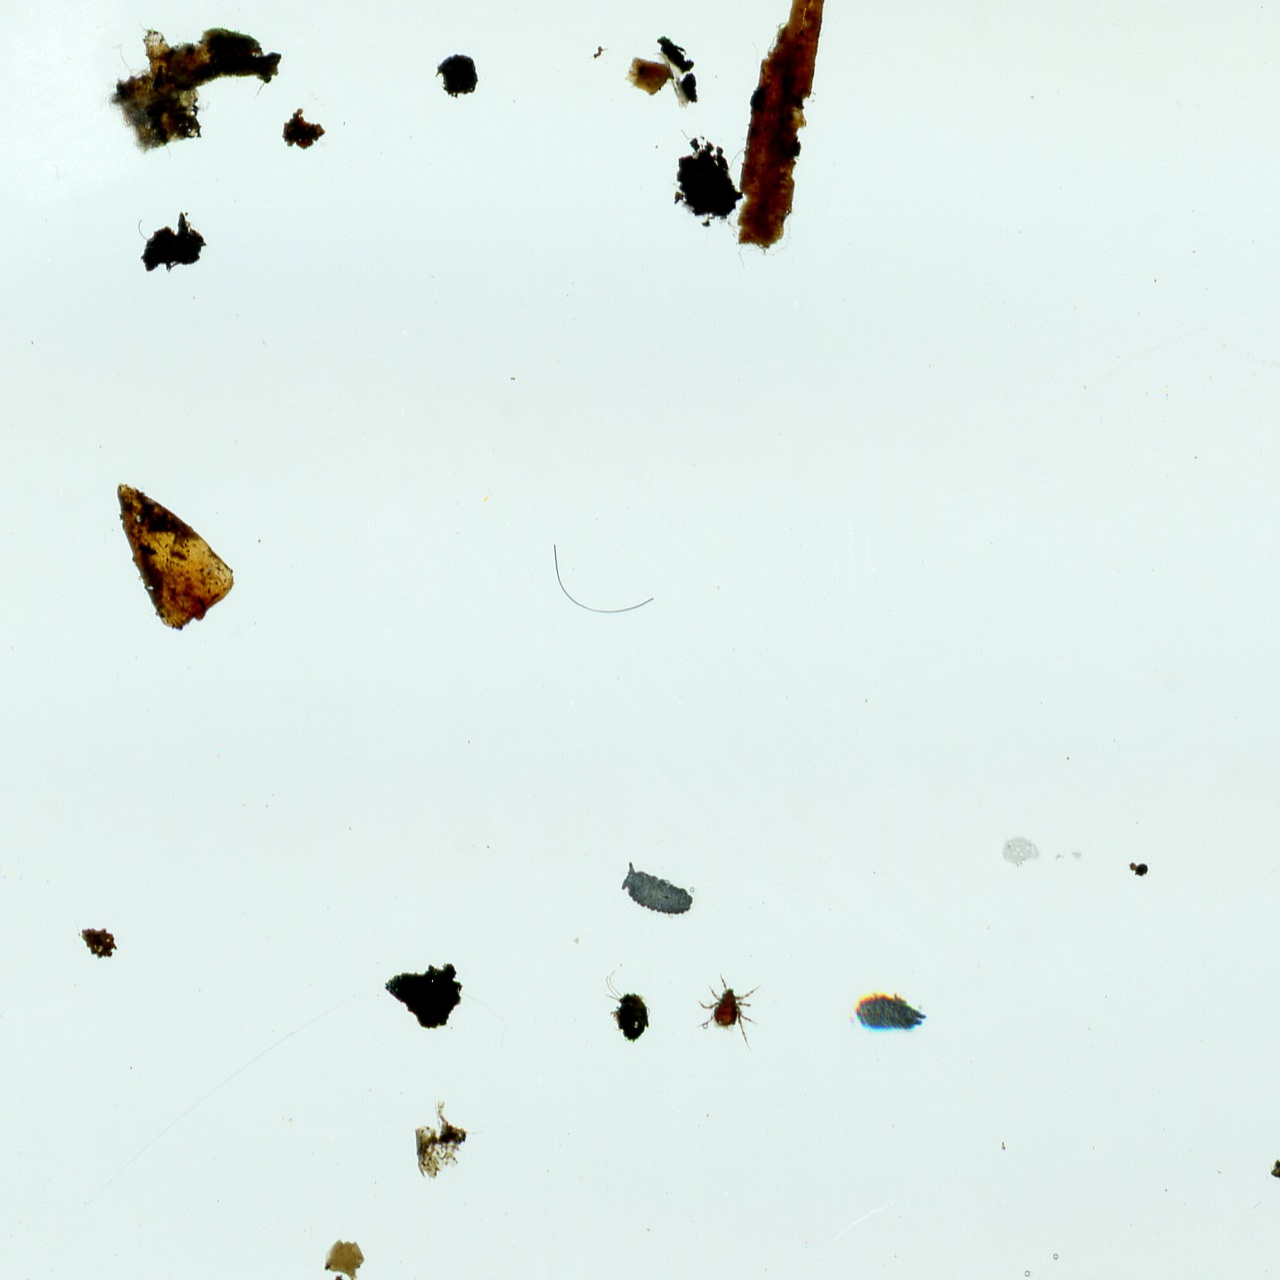arthropod: (608, 851, 705, 937), (693, 971, 763, 1044), (853, 989, 931, 1038)
